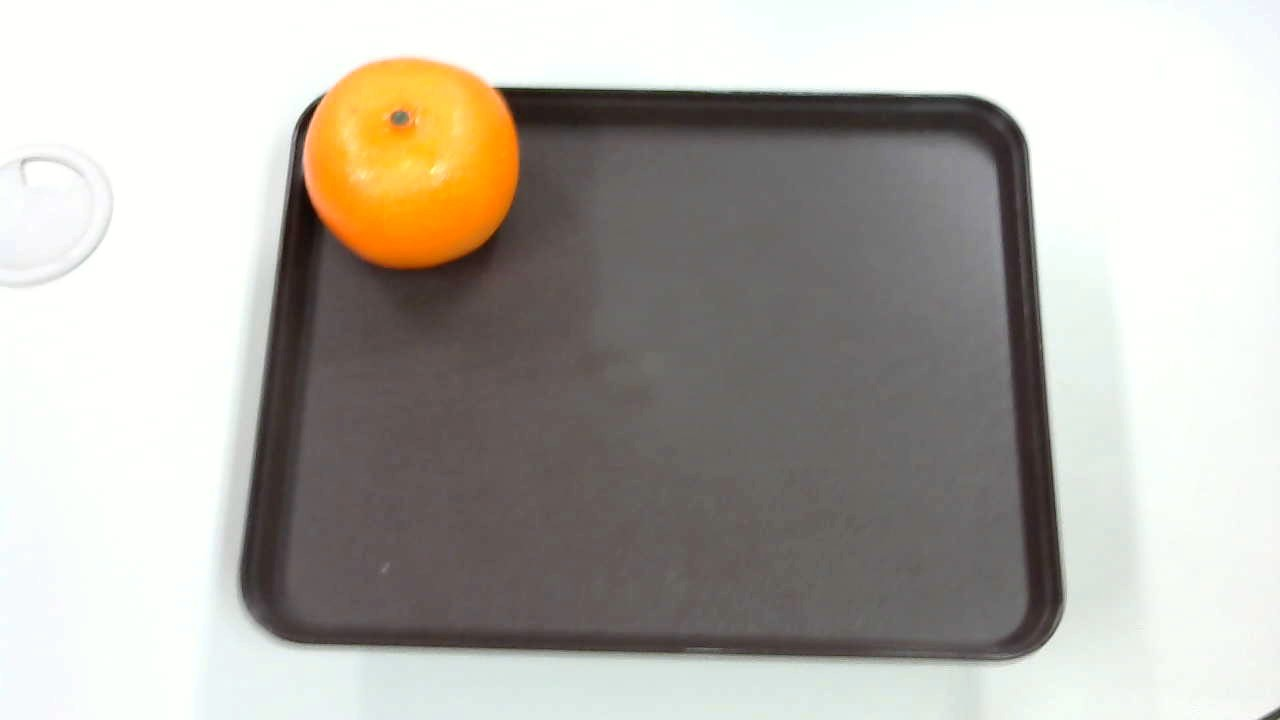orange: (296, 52, 529, 283)
